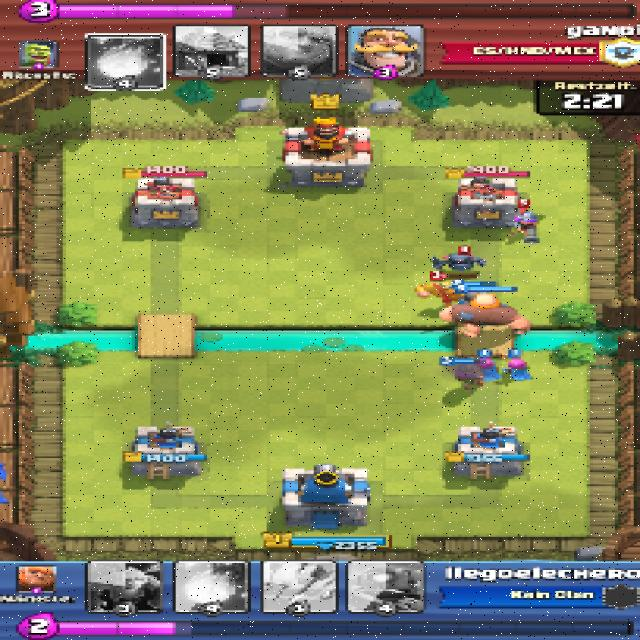Enemy-MiniPEKKA: (430, 252, 488, 271)
Enemy-Musketeer: (510, 208, 548, 240)
Player-Archer: (504, 358, 532, 382), (478, 356, 496, 382)
Player-Giant: (428, 294, 534, 336)
Player-GoblinCage: (414, 282, 465, 302)
Player-Musketeer: (446, 360, 484, 387)
